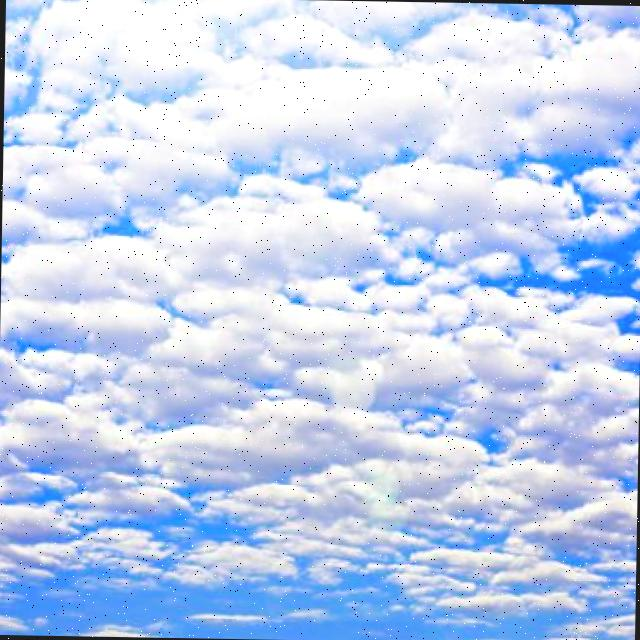Cc: (1, 12, 640, 522)
